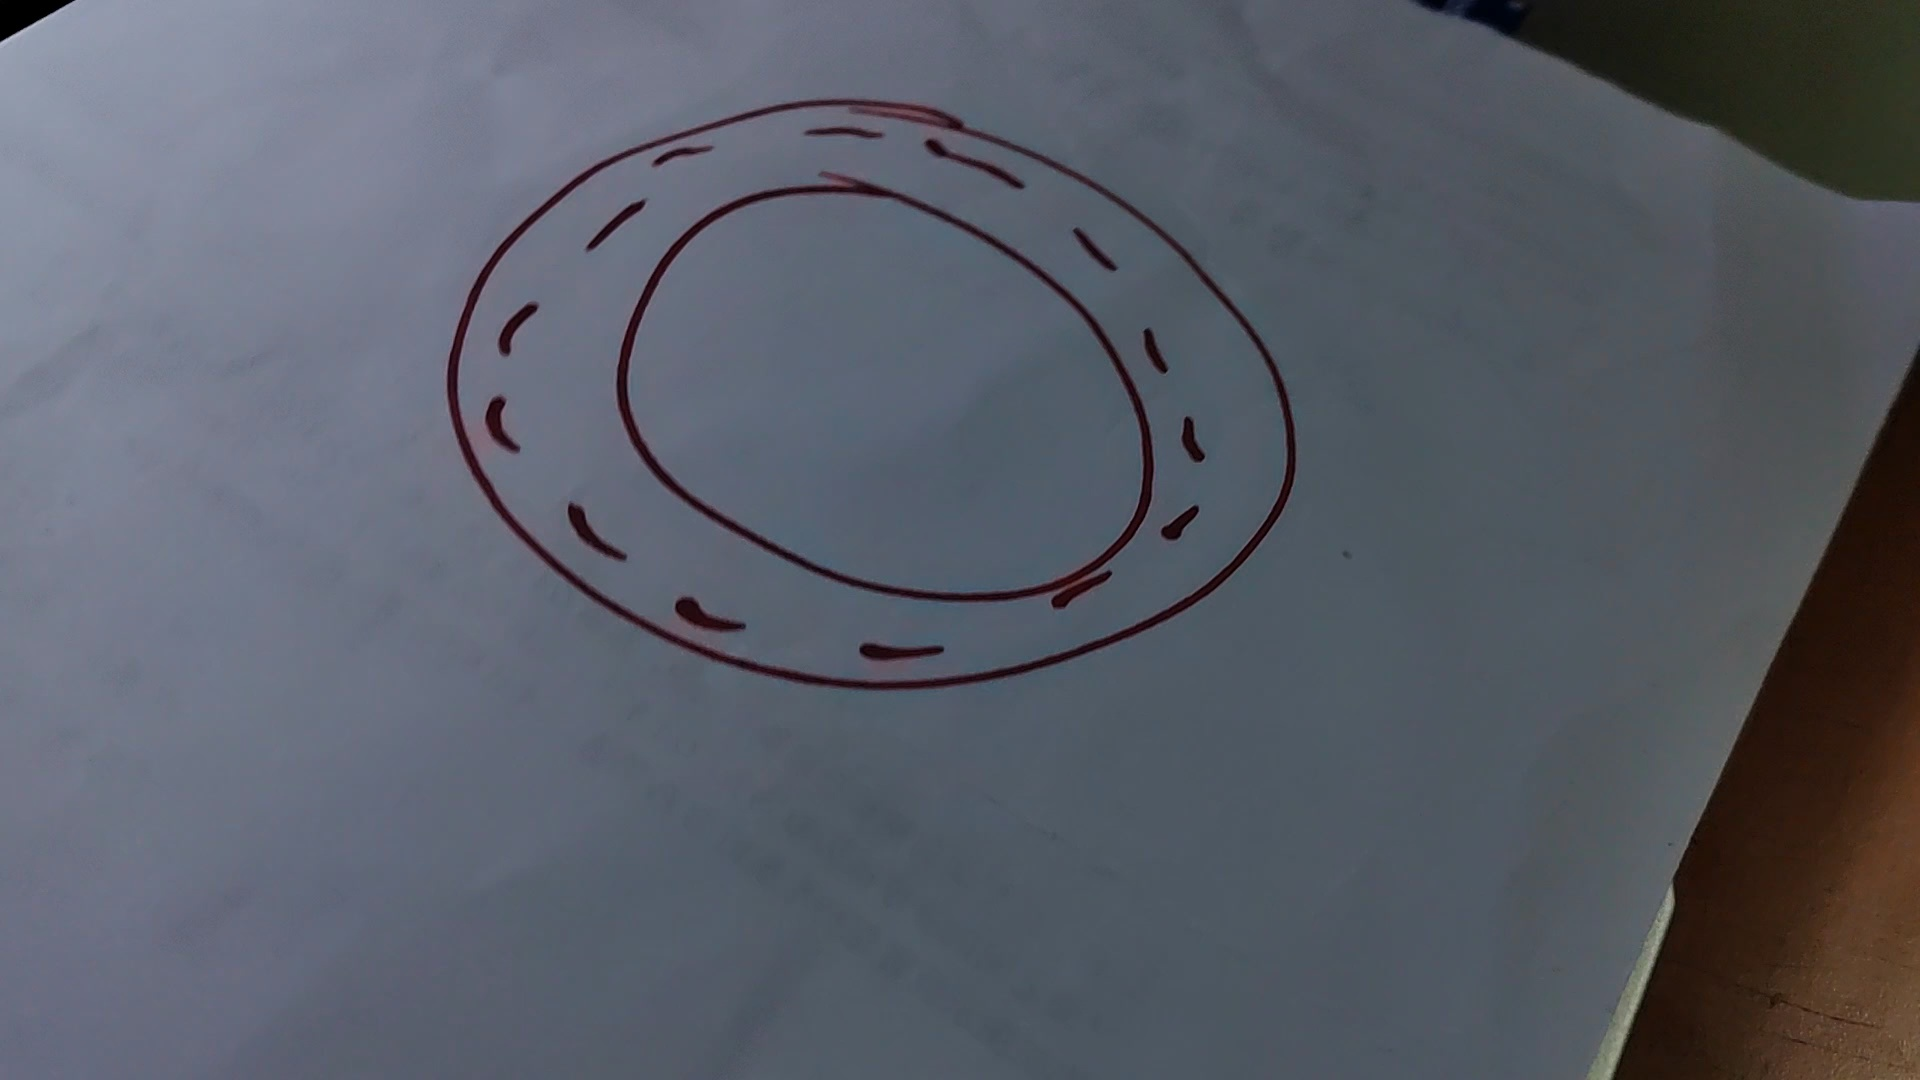circle: (448, 102, 1296, 698)
